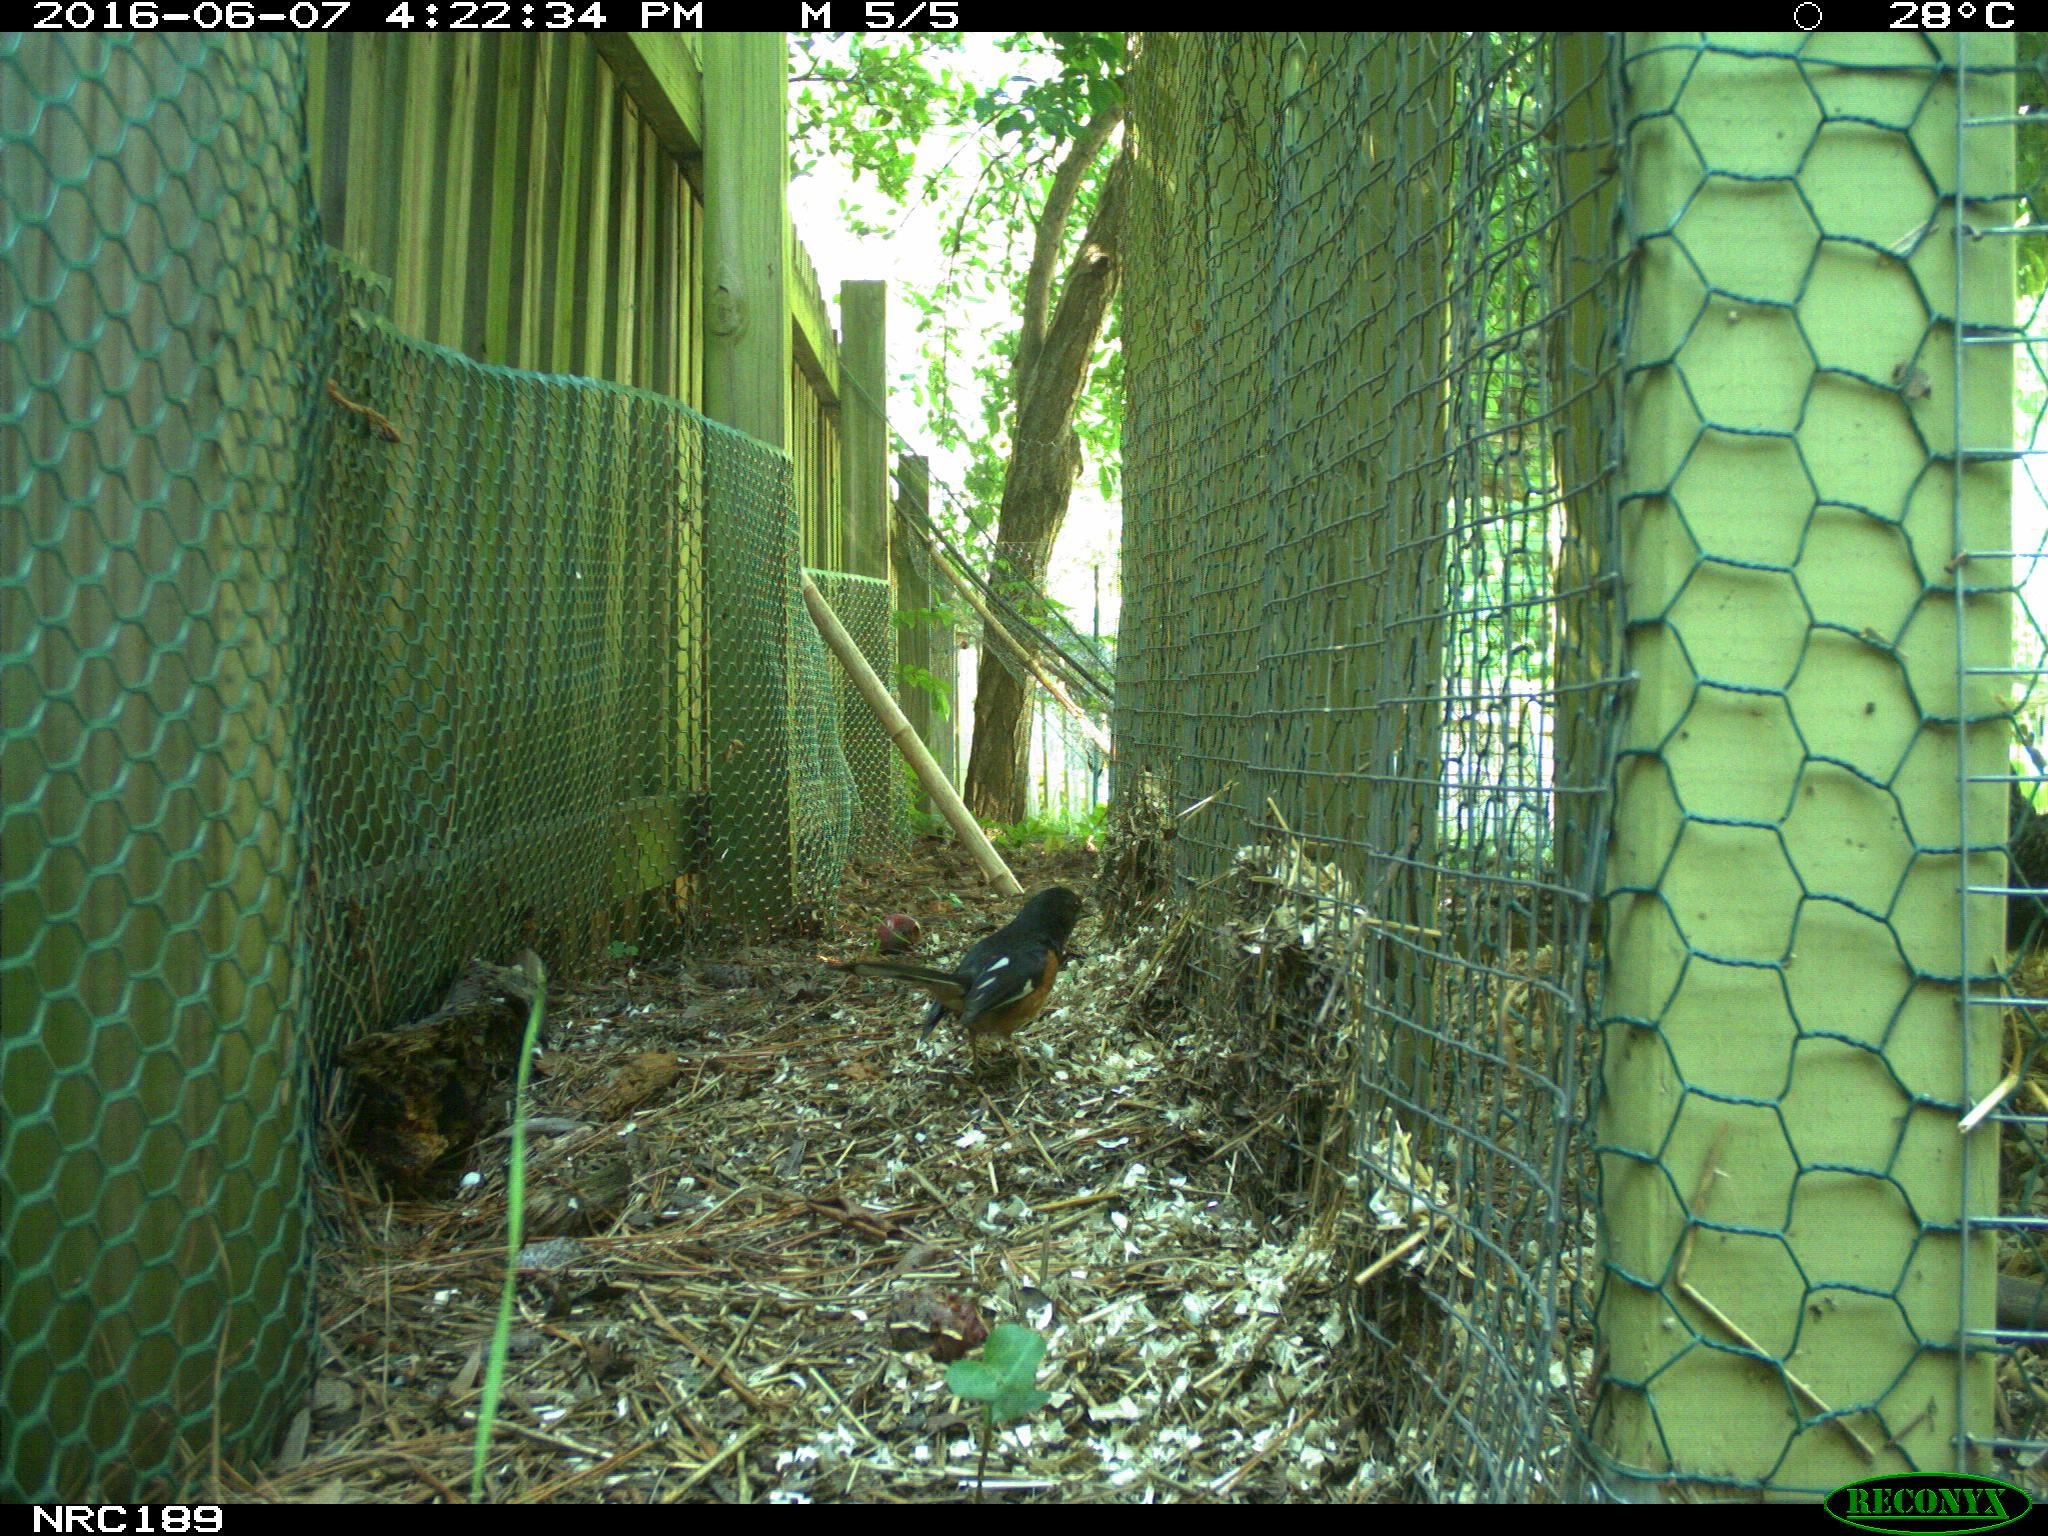Animal: (840, 887, 1080, 1073)
